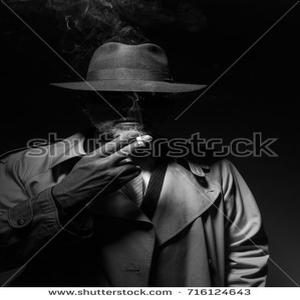cigarette: (132, 131, 156, 144)
